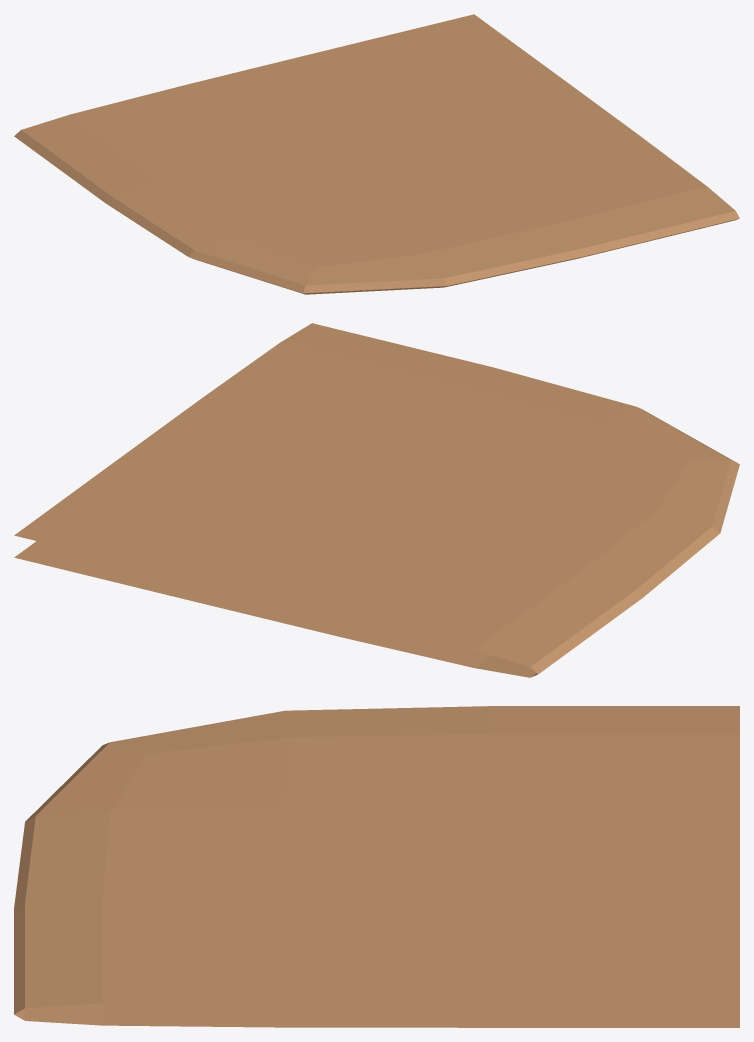
The model's file is mid_watered_soil_tile_1.fbx.
3 renders of one model, top to bottom at view 1: azimuth 30°, elevation 25°; view 2: azimuth 150°, elevation 25°; view 3: azimuth 270°, elevation 25°, orthographic. The views are drawn at different scales.
Parts seen in each view (by area): view 1: _Watered_Corner_1; view 2: _Watered_Corner_1; view 3: _Watered_Corner_1.
Part boxes in pixels (x1,y1,x2,y2): _Watered_Corner_1: [14, 14, 739, 294]; _Watered_Corner_1: [14, 323, 739, 677]; _Watered_Corner_1: [14, 706, 739, 1027].
Bounding box in the file's own units: 0.3696 × 0.3696 × 0.0149.
